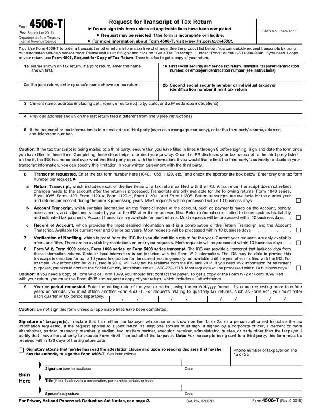checkbox: (295, 226, 302, 233), (295, 239, 302, 246), (295, 264, 302, 271), (295, 197, 303, 203), (17, 347, 25, 353), (295, 214, 302, 220)
textbox: (17, 124, 306, 145), (17, 99, 305, 115), (17, 111, 305, 127), (157, 80, 304, 102), (17, 61, 160, 83), (17, 80, 160, 102), (157, 61, 304, 82), (157, 293, 210, 304), (108, 293, 160, 304), (206, 293, 259, 303), (256, 293, 304, 304)
textline: (44, 371, 302, 379), (43, 383, 184, 392), (179, 383, 306, 392), (45, 358, 183, 366), (229, 358, 305, 368), (180, 358, 232, 368), (78, 176, 142, 184)
